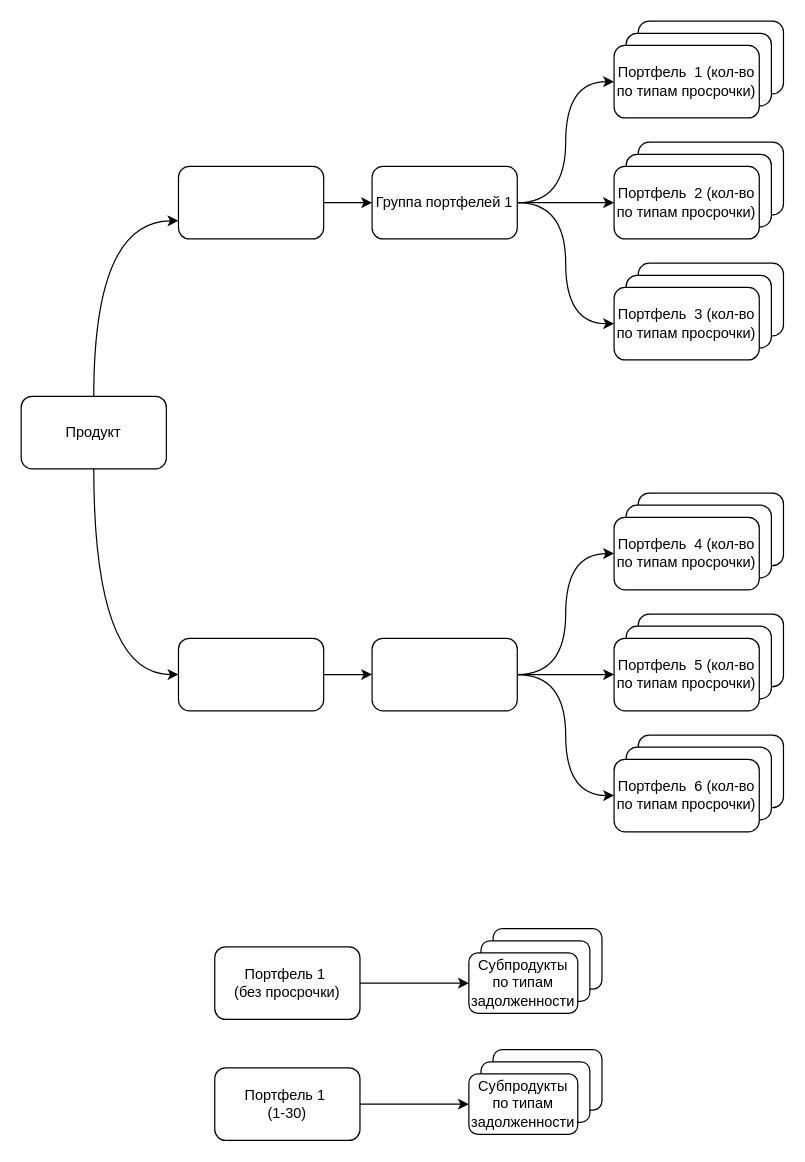
The diagram is 805 pixels wide and 1162 high, and some of its shapes have lost their labels. The centre of each missing label's shape, as x and y in pixels:
"Группа портфелей 2" goes at (x=444, y=674).
"Субпродукт 1" goes at (x=250, y=202).
"Субпродукт 2" goes at (x=250, y=674).
